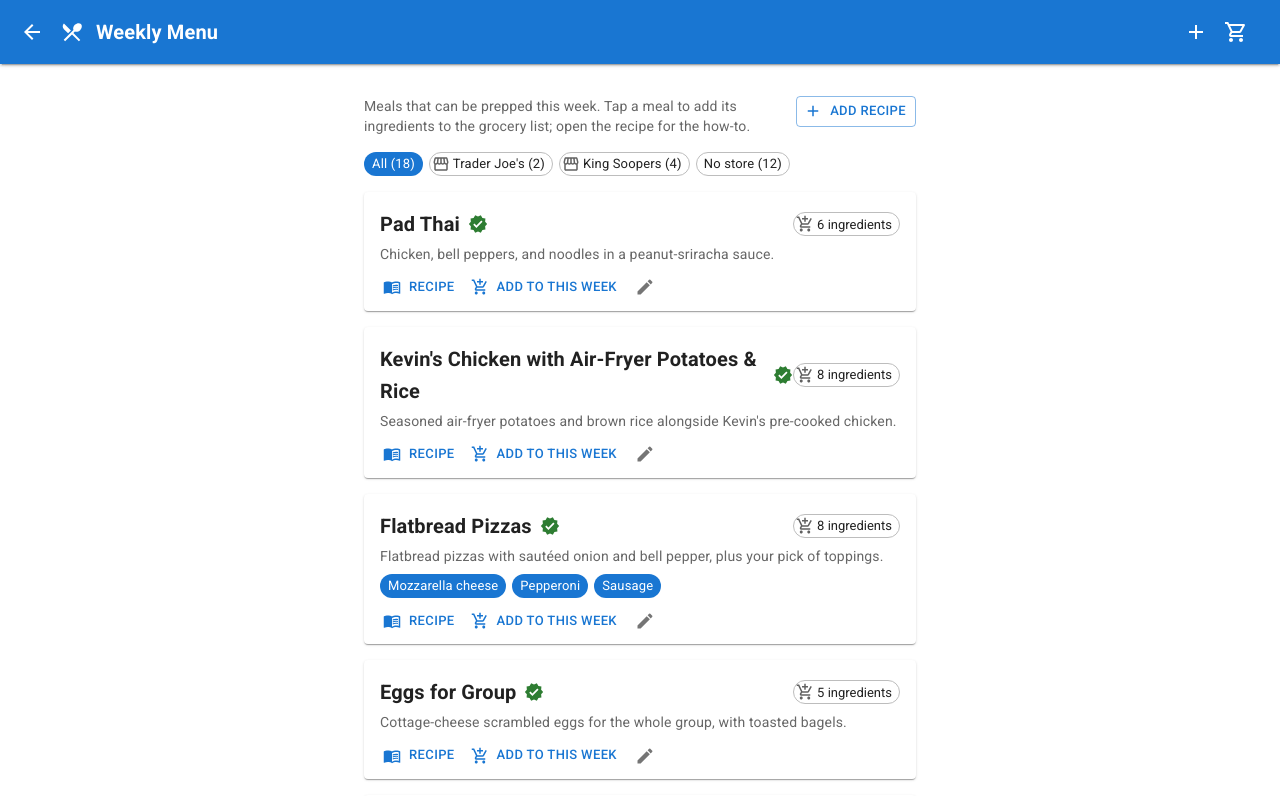
Test case: recipe dialog › marks optional extras in the ingredient list
This screenshot has width=1280, height=796.
Click the button with aria-label "flatbread pizzas recipe": {"x": 420, "y": 621} [380,606,460,636]
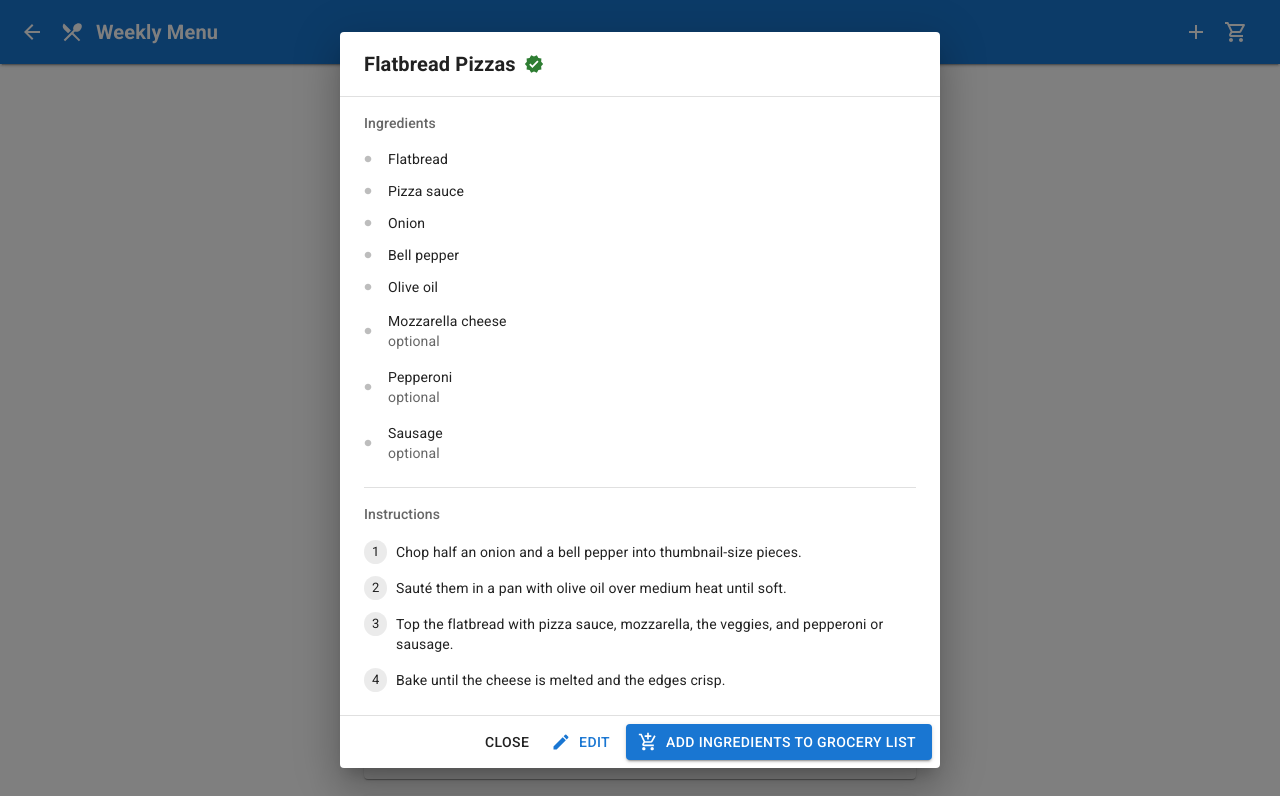
Expected: the text "Mozzarella cheese" is shown, [388,313,507,329]
Expected: the text "Pepperoni" is shown, [388,369,452,385]
Expected: the text "Sausage" is shown, [388,425,443,441]
